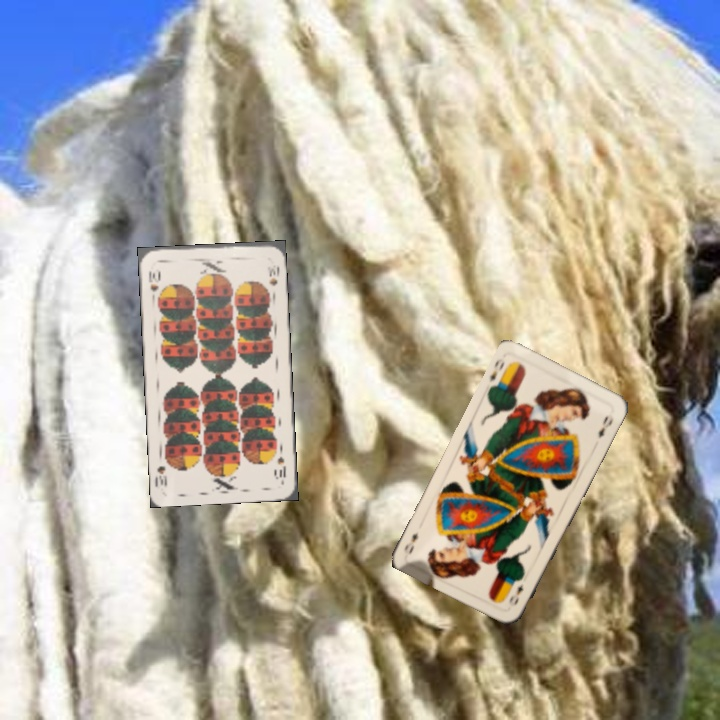EO: (485, 354, 507, 385), (505, 580, 526, 609)
S10: (144, 267, 162, 302), (272, 452, 289, 481)
